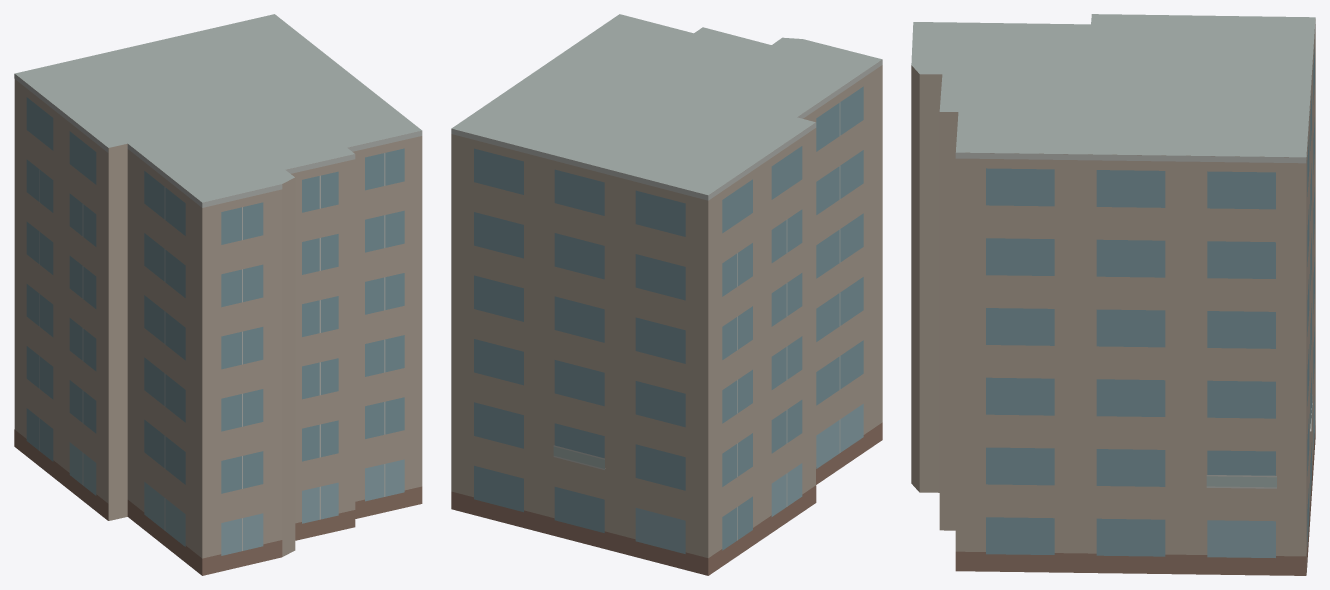
Rendered from survey-upis-32949385.glb.
3 renders of one model, left to right at view 1: azimuth 30°, elevation 25°; view 2: azimuth 150°, elevation 25°; view 3: azimuth 270°, elevation 25°, orthographic. The views are drawn at different scales.
Visible parts, largest first — view 1: survey-upis-32949385.tmp; view 2: survey-upis-32949385.tmp; view 3: survey-upis-32949385.tmp.
Boxes of the visible parts, left/top/right/bottom form: survey-upis-32949385.tmp: left=14, top=14, right=422, bottom=575; survey-upis-32949385.tmp: left=451, top=14, right=882, bottom=575; survey-upis-32949385.tmp: left=911, top=14, right=1315, bottom=575.
Size of the model in its own units: 12.72 by 17.3 by 15.15.
